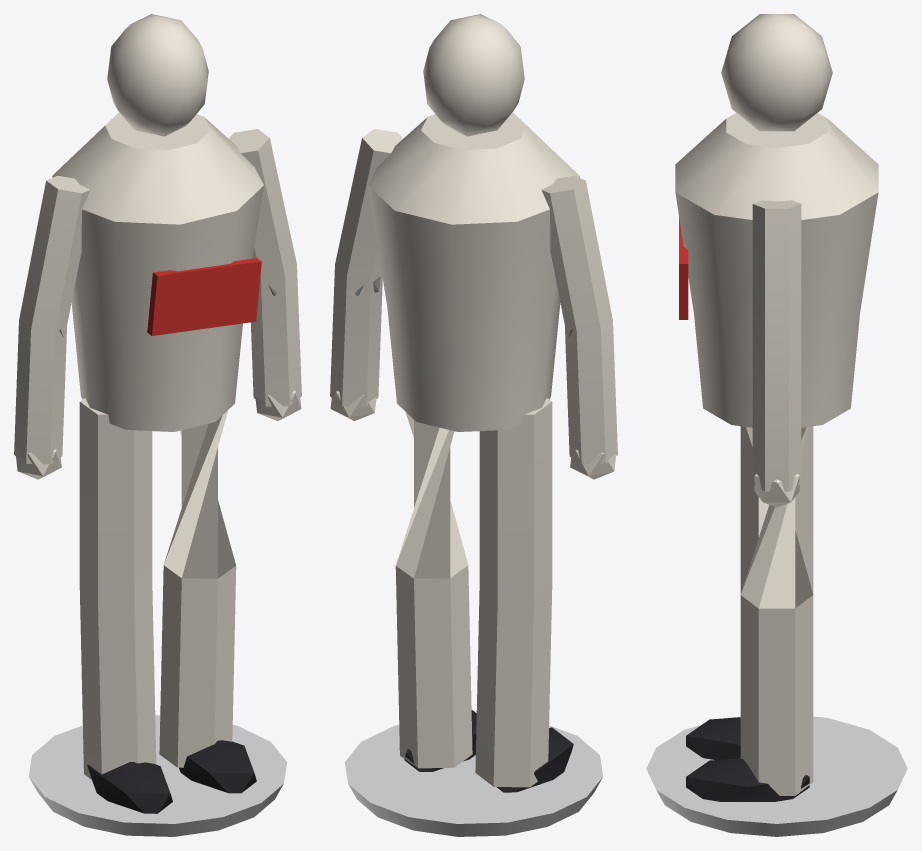
Rendered from shop_dummy.glb.
3 renders of one model, left to right at view 1: azimuth 30°, elevation 25°; view 2: azimuth 150°, elevation 25°; view 3: azimuth 270°, elevation 25°, orthographic.
Parts seen in each view (by area): view 1: shop_dummy; view 2: shop_dummy; view 3: shop_dummy.
Part boxes in pixels (x1,y1,x2,y2): shop_dummy: [14, 14, 301, 836]; shop_dummy: [330, 14, 617, 836]; shop_dummy: [646, 14, 907, 836].
Size of the model in its own units: 0.6964 by 1.83 by 0.56.
